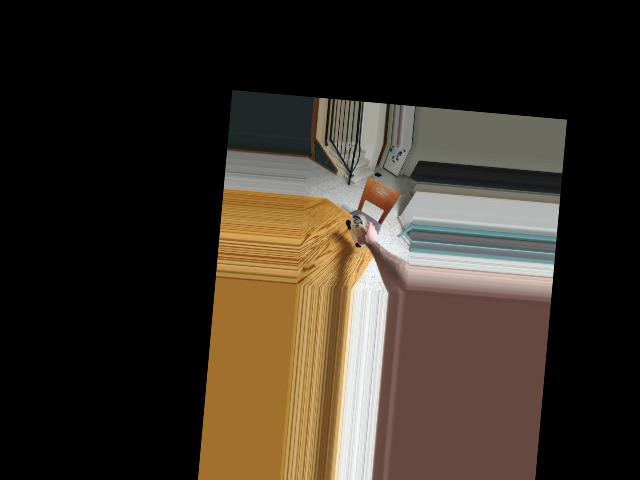cheese: (343, 213, 379, 251)
